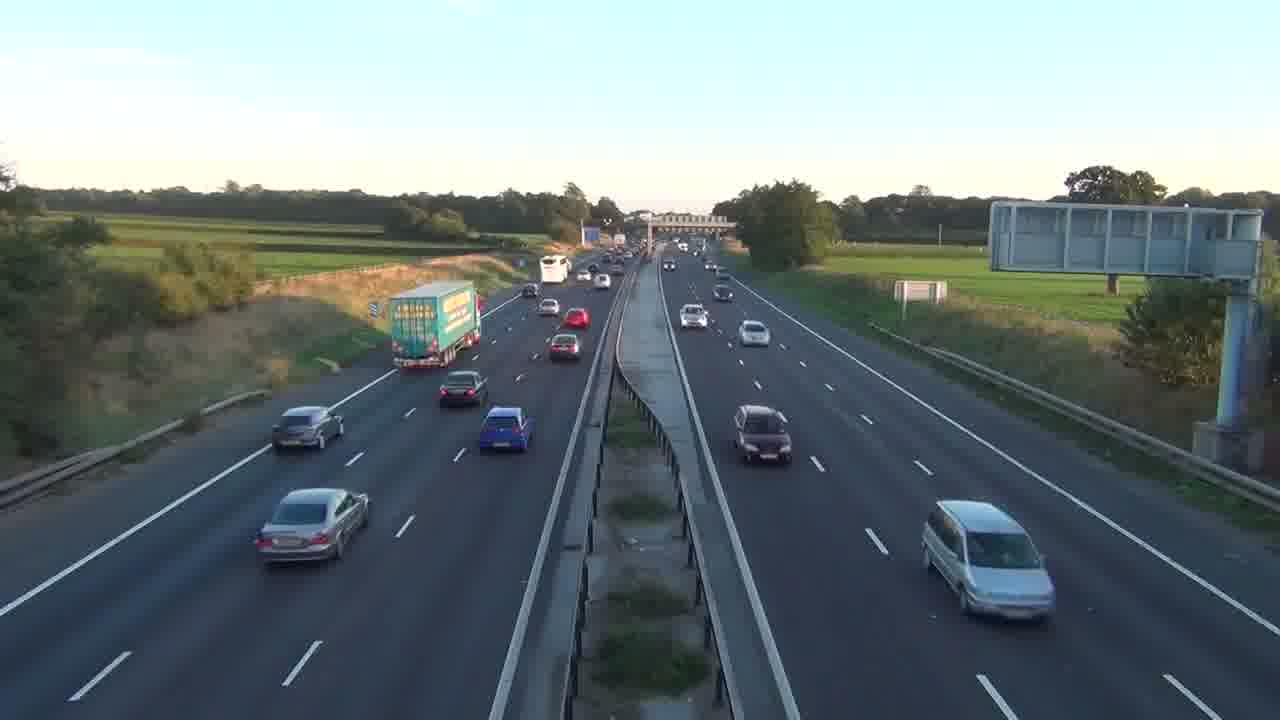bus: (388, 280, 482, 370)
car: (920, 498, 1057, 625), (254, 486, 370, 567), (732, 402, 793, 465), (271, 404, 345, 452), (478, 405, 533, 453), (437, 368, 488, 408), (547, 331, 581, 362), (737, 320, 770, 347), (679, 303, 709, 328), (561, 307, 591, 330), (539, 297, 561, 316), (713, 285, 733, 302)
